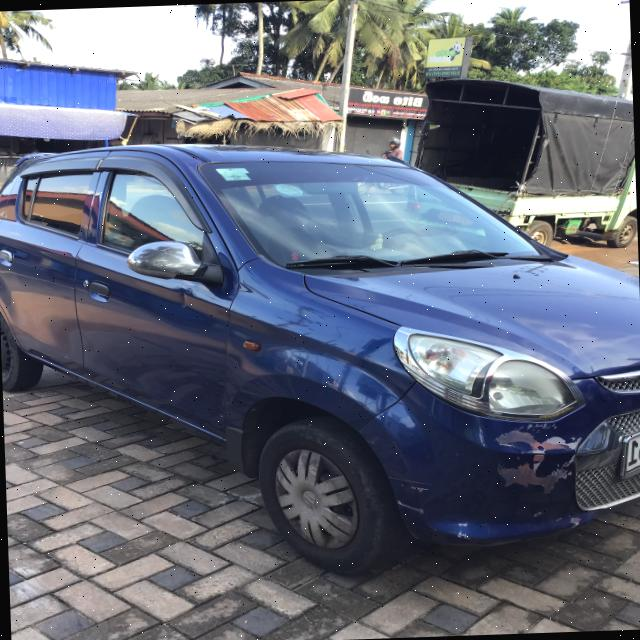car: (0, 131, 640, 586)
truck: (408, 68, 638, 240)
